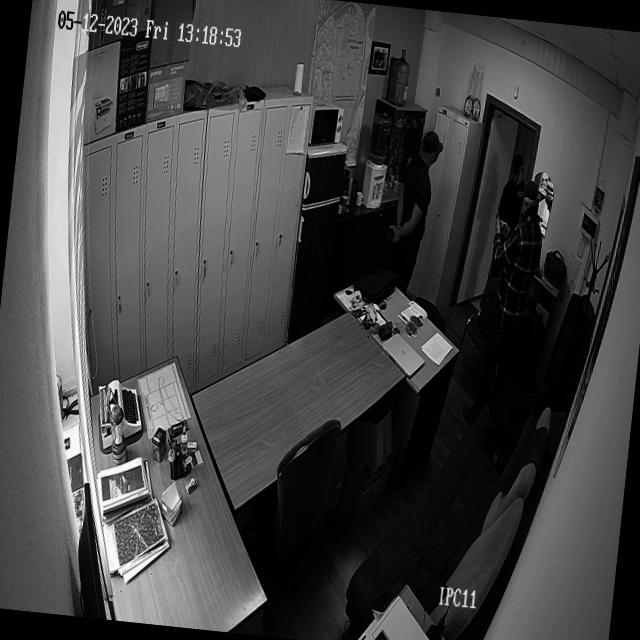person: (458, 175, 550, 438), (381, 124, 446, 290)
